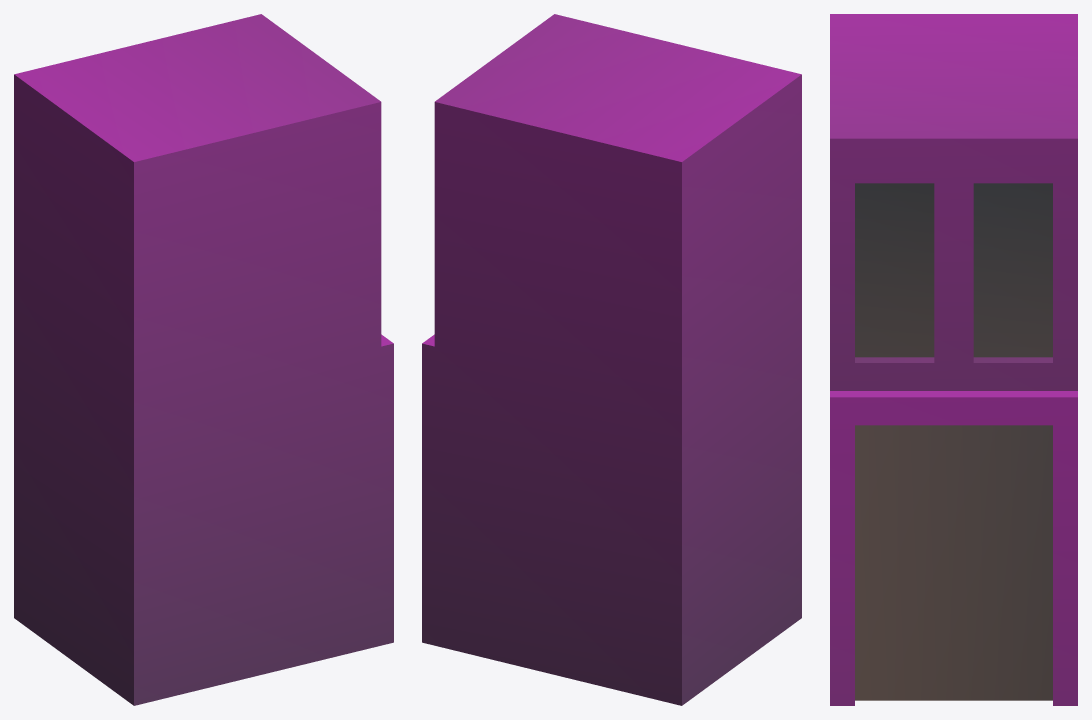
The model's file is Building 2.fbx.
3 renders of one model, left to right at view 1: azimuth 30°, elevation 25°; view 2: azimuth 150°, elevation 25°; view 3: azimuth 270°, elevation 25°, orthographic. The views are drawn at different scales.
Visible parts, largest first — view 1: building_2_var_1; view 2: building_2_var_1; view 3: building_2_var_1.
Boxes of the visible parts, x1,y1,x2,y2 form: building_2_var_1: (14,14,393,705); building_2_var_1: (422,14,801,705); building_2_var_1: (830,14,1077,705).
Size of the model in its own units: 3.02 by 6.04 by 2.42.
